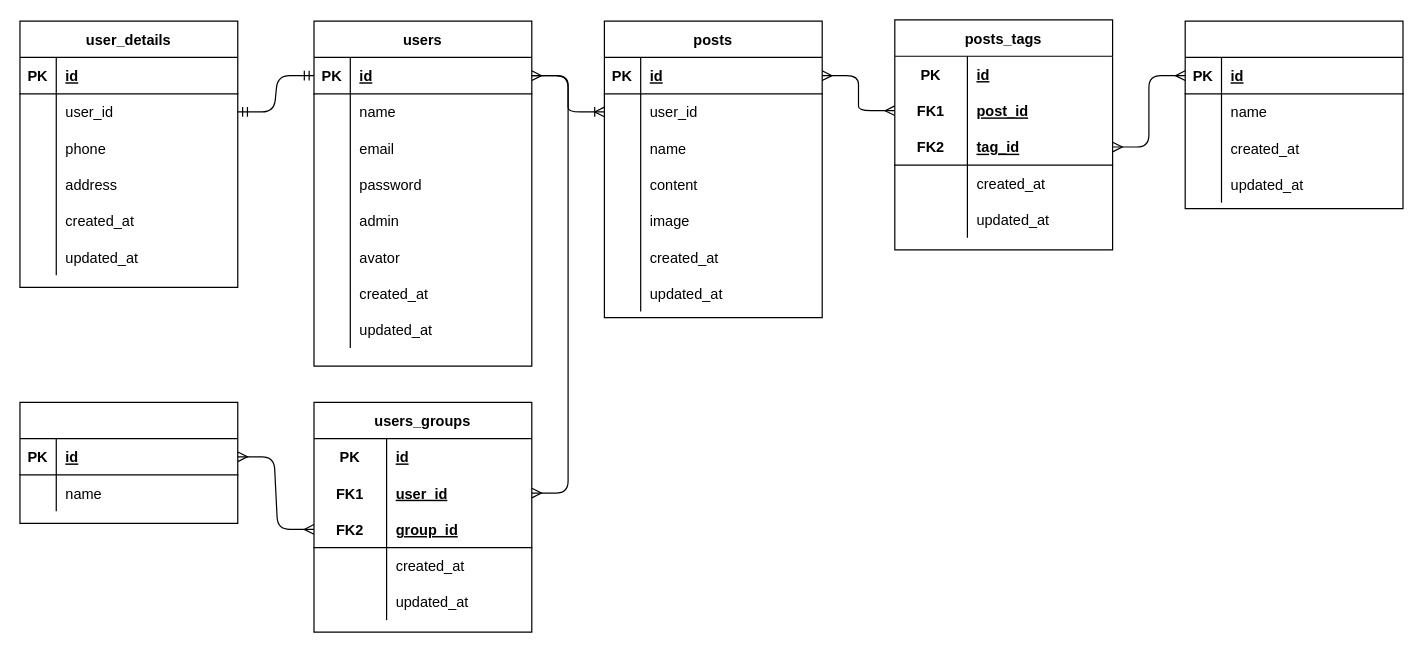
The diagram is 1423 pixels wide and 652 high, and some of its shapes have lost their labels. The box of each missing label's shape, as (x1, y1, x2, y2) in pixels:
groups: (19, 401, 238, 523)
tags: (1184, 20, 1403, 209)
